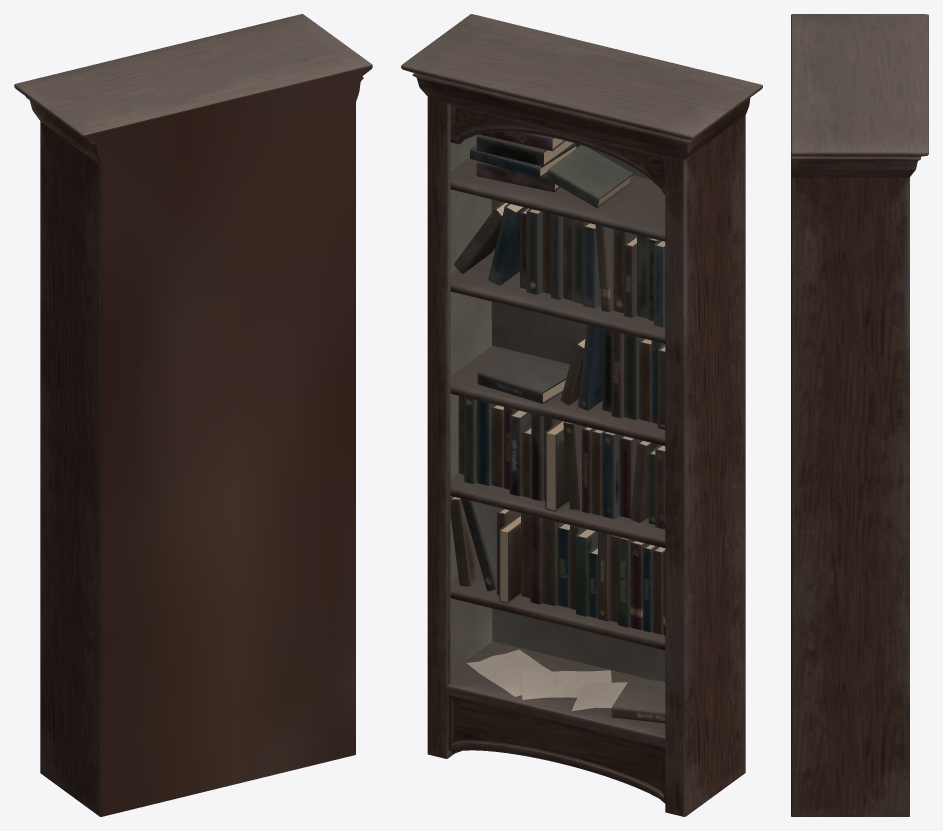
The model's file is dusty_old_bookshelf_free.glb.
3 views of the same model, side by side, from view 1: azimuth 30°, elevation 25°; view 2: azimuth 150°, elevation 25°; view 3: azimuth 270°, elevation 25° (orthographic). The views are drawn at different scales.
Parts seen in each view (by area): view 1: Old_Dusty_Bookshelf_1; view 2: Old_Dusty_Bookshelf_1; view 3: Old_Dusty_Bookshelf_1.
Part boxes in pixels (x1,y1,x2,y2): Old_Dusty_Bookshelf_1: [14, 14, 372, 816]; Old_Dusty_Bookshelf_1: [401, 14, 762, 816]; Old_Dusty_Bookshelf_1: [791, 14, 928, 816].
Size of the model in its own units: 0.9199 by 2.08 by 0.3865.
Materials: 2 (2 with a texture image).
